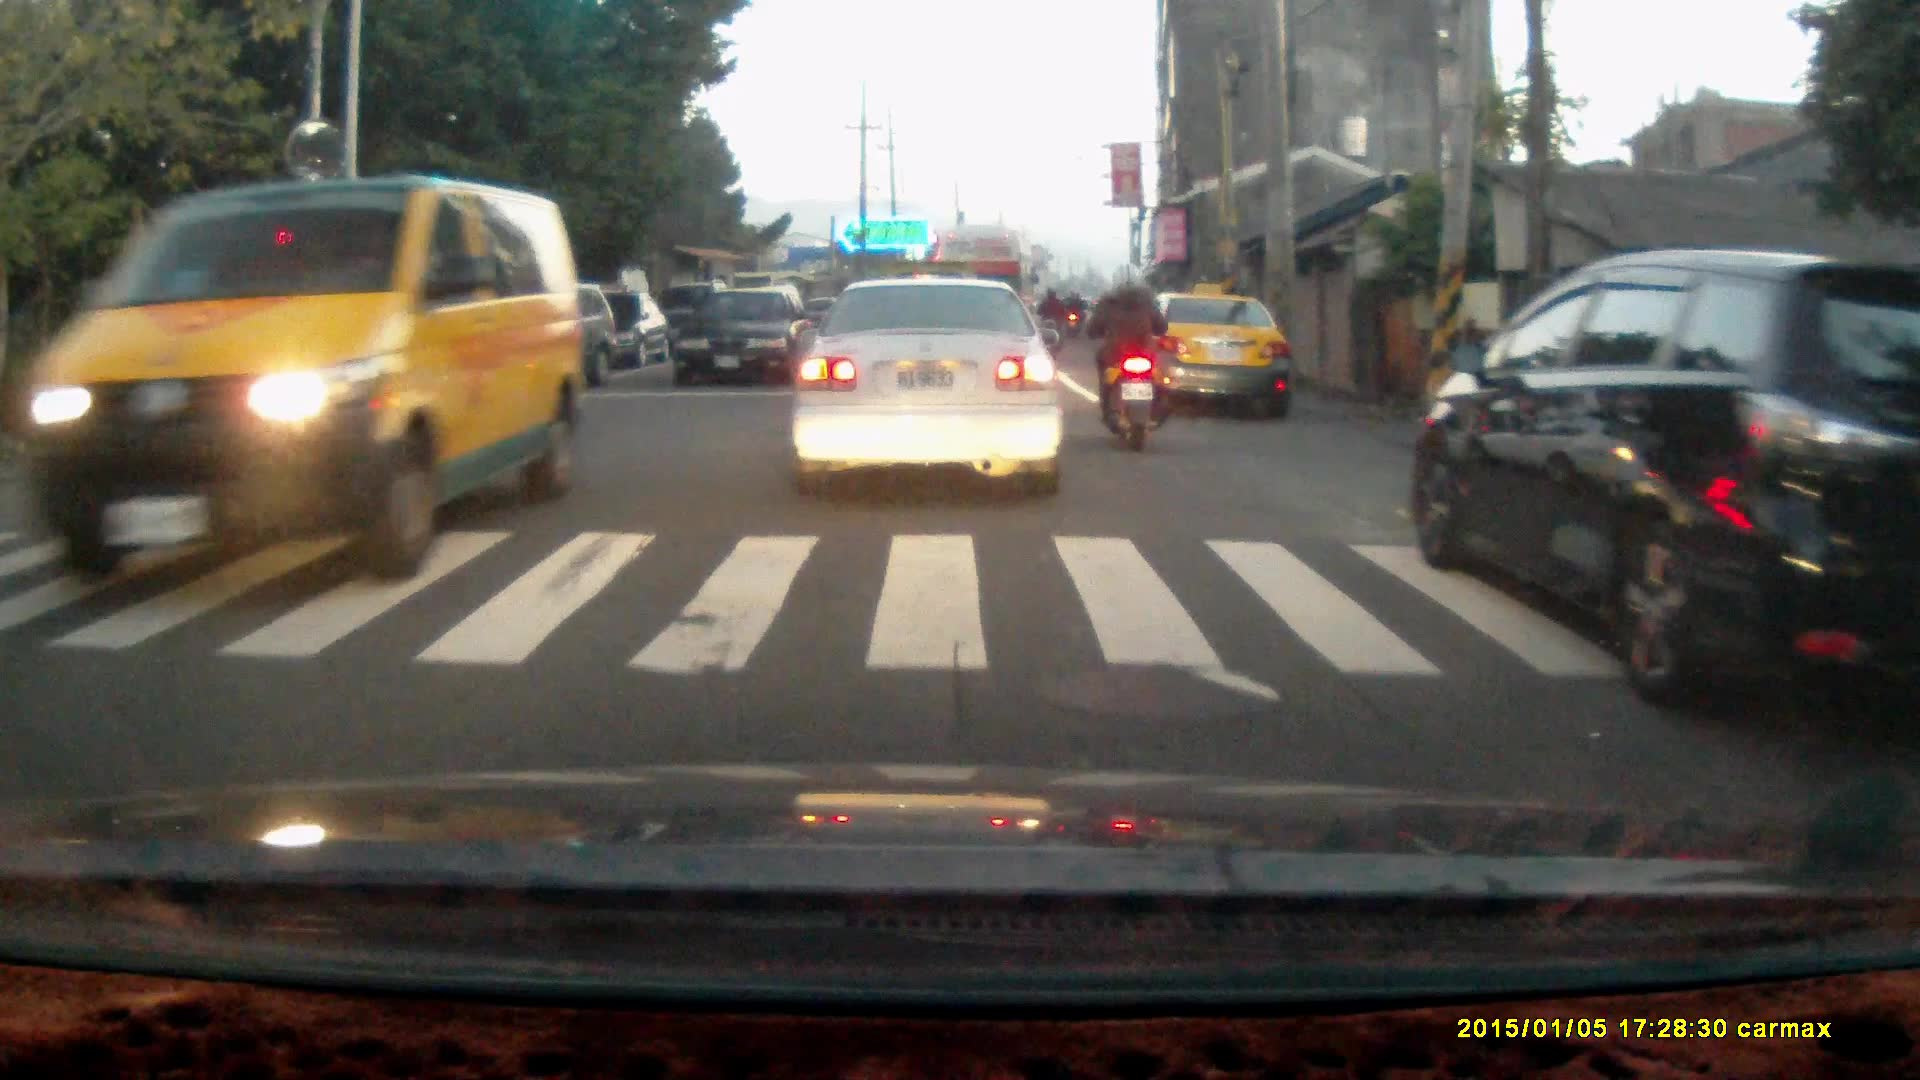rider: (1078, 260, 1168, 453)
vehicle: (1411, 246, 1920, 720), (45, 177, 577, 589), (790, 273, 1068, 501), (1123, 292, 1290, 423), (671, 285, 814, 392)
